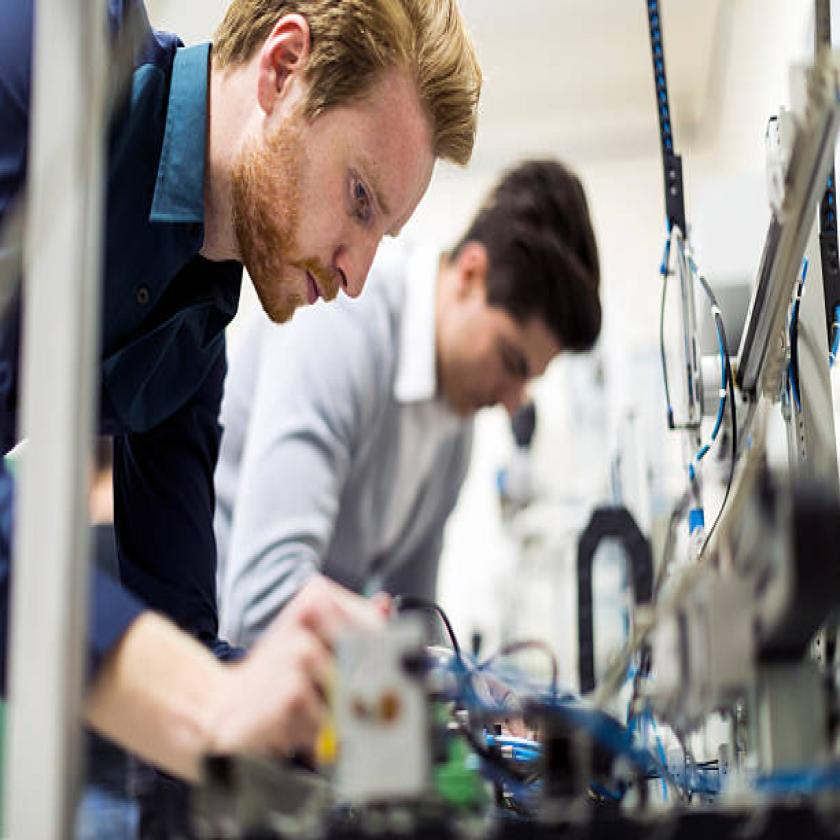Sin_casco: (210, 0, 485, 342), (435, 156, 636, 437)
